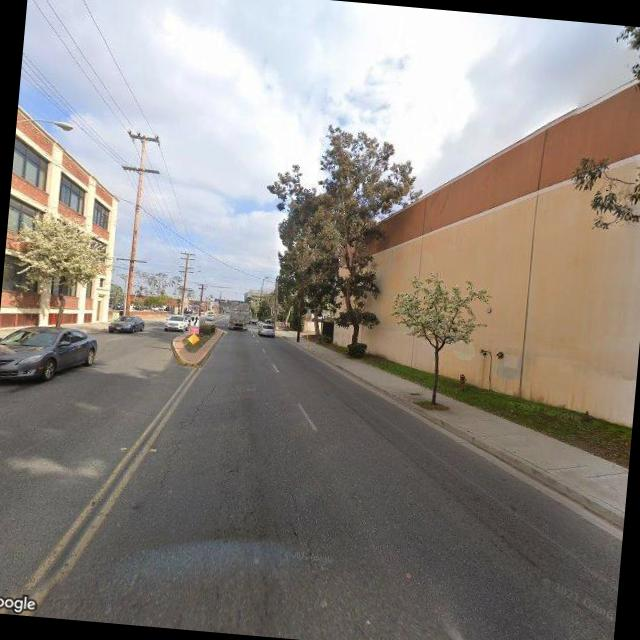pothole: (164, 372, 219, 478)
